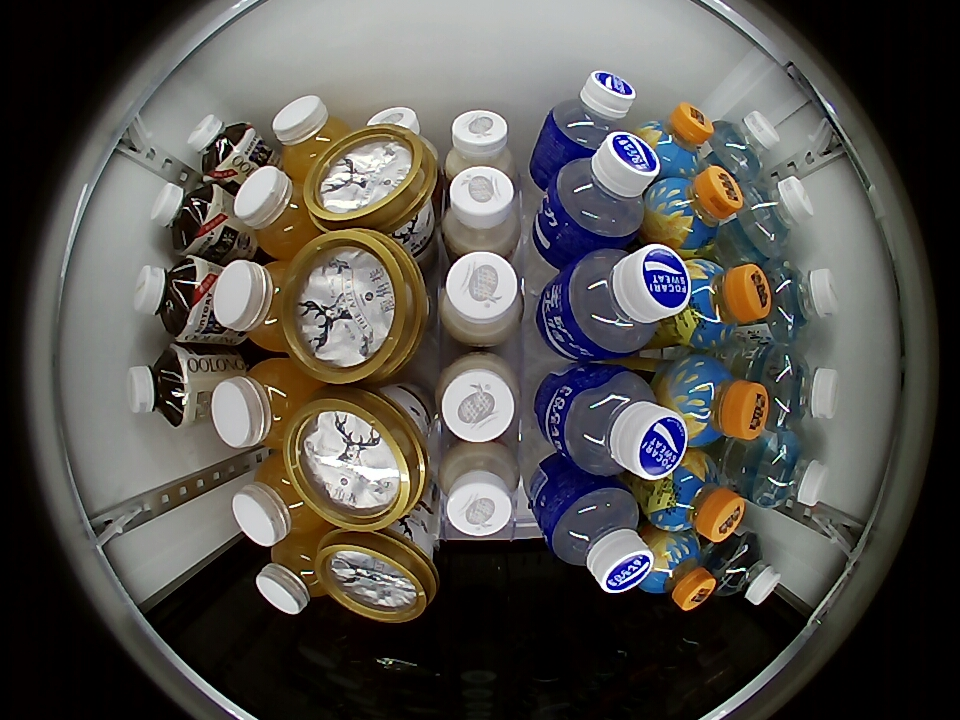baokuangli: (555, 244, 692, 359), (553, 365, 687, 480), (545, 132, 659, 247), (543, 480, 653, 593), (543, 70, 636, 159)
guolicheng: (661, 354, 769, 445), (669, 258, 772, 350), (643, 450, 745, 542), (646, 167, 743, 255), (634, 530, 715, 611), (634, 103, 713, 179)
lujiaoxiang: (280, 229, 428, 385), (284, 387, 429, 530), (305, 126, 437, 233), (316, 528, 440, 623)
qinningshui: (758, 345, 841, 430), (760, 260, 840, 342), (736, 175, 814, 256), (751, 434, 827, 509), (710, 533, 782, 606), (709, 111, 780, 182)
weic: (212, 358, 316, 449), (232, 454, 325, 547), (213, 258, 299, 353), (233, 166, 321, 258), (272, 95, 352, 175), (256, 535, 328, 615)
weiweidounai: (437, 439, 521, 538), (439, 250, 524, 346), (435, 352, 519, 443), (441, 165, 522, 257), (444, 109, 516, 183), (362, 106, 422, 138)
wulongcha: (133, 257, 210, 338), (126, 345, 197, 427), (150, 181, 223, 252), (187, 114, 260, 182)
